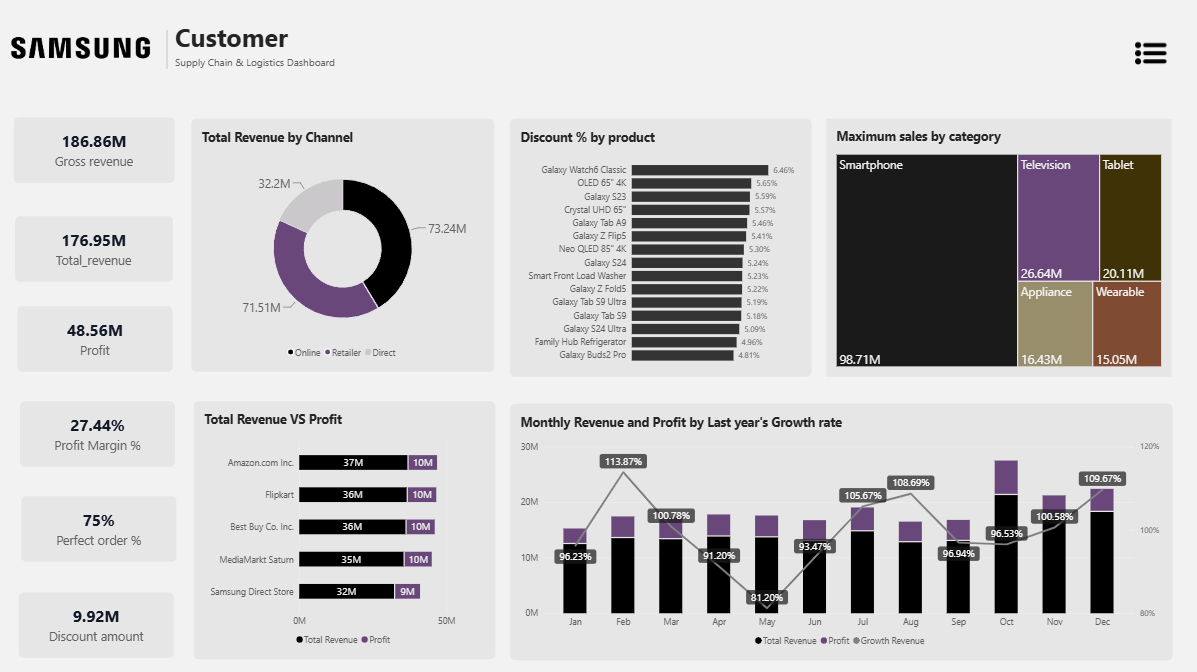

Layout of this report page (visuals, bound fields, positions):
{"tool":"powerbi","page":{"name":"Customer","canvas":[1920,1080],"ordinal":5},"visuals":[{"type":"image","box":[0,15,247.5,120],"z":0},{"type":"shape","title":"Customer","box":[280,32.5,397.5,102.5],"z":1000},{"type":"shape","box":[55,47.5,422.5,62.5],"z":2000},{"type":"barChart","title":"Total Revenue VS Profit","fields":{"Category":["dim_customer.customer_name"],"Y":["Measures_table.Total_revenue","Measures_table.Profit"]},"box":[310,642,482.5,412.5],"z":3000},{"type":"group","id":"g1","title":"Group 2","box":[21.2,188.8,260,863.8],"z":4000},{"type":"donutChart","title":"Total Revenue by Channel","fields":{"Y":["Measures_table.Total_revenue"],"Category":["dim_customer.channel_type"]},"box":[306,190,485,405],"z":5000},{"type":"lineStackedColumnComboChart","title":"Monthly Revenue and Profit by Last year''s Growth rate","fields":{"Category":["dim_date.Month_short"],"Y":["Measures_table.Total_revenue","Sum(fact_sales.profit)"],"Y2":["Measures_table.Growth_revenue"]},"box":[815,645,1060,410],"z":6000},{"type":"clusteredBarChart","title":"Discount % by product","fields":{"Category":["dim_product.product_name"],"Y":["Measures_table.Discount %"]},"box":[816,190,482.5,412.5],"z":8000},{"type":"treemap","title":"Maximum sales by category","fields":{"Values":["Measures_table.Total_revenue"],"Group":["dim_product.category"]},"box":[1322.5,190,552.5,412.5],"z":9000},{"type":"image","box":[1808,60,66,50],"z":9002},{"type":"cardVisual","fields":{"Data":["Measures_table.Total_revenue"]},"box":[22.4,347.6,252.5,105],"z":19000,"group":"g1"},{"type":"cardVisual","fields":{"Data":["Sum(fact_sales.discount_amount)"]},"box":[27.6,947.4,248.2,105.1],"z":20000,"group":"g2"},{"type":"cardVisual","fields":{"Data":["Measures_table.Perfect_order_%"]},"box":[33,793.3,248.2,105.1],"z":21000,"group":"g2"},{"type":"cardVisual","fields":{"Data":["Measures_table.Profit_margin %"]},"box":[29.6,641.6,248.2,105.1],"z":22000,"group":"g2"},{"type":"cardVisual","fields":{"Data":["Measures_table.Profit"]},"box":[26.2,490,248.2,105.1],"z":23000,"group":"g2"},{"type":"cardVisual","fields":{"Data":["Sum(fact_sales.gross_revenue)"]},"box":[21.2,188.8,257.5,105],"z":24000,"group":"g1"},{"type":"group","id":"g2","title":"Group 1","box":[26.2,490,255,562.5],"z":38001,"group":"g1"}]}

Visuals, with their boxes in screenshot pixels (x1, y1, x2, y2), scaled from the page's 1920x1080 canvas onto the 1197x672 screenshot:
image: 0:9:154:84
"Customer" shape: 175:20:422:84
shape: 34:30:298:68
"Total Revenue VS Profit" barChart: 193:399:494:656
"Group 2" group: 13:117:175:655
"Total Revenue by Channel" donutChart: 191:118:493:370
"Monthly Revenue and Profit by Last year''s Growth rate" lineStackedColumnComboChart: 508:401:1169:656
"Discount % by product" clusteredBarChart: 509:118:810:375
"Maximum sales by category" treemap: 824:118:1169:375
image: 1127:37:1168:68
cardVisual - Measures_table.Total_revenue: 14:216:171:282
cardVisual - Sum(fact_sales.discount_amount): 17:589:172:655
cardVisual - Measures_table.Perfect_order_%: 21:494:175:559
cardVisual - Measures_table.Profit_margin %: 18:399:173:465
cardVisual - Measures_table.Profit: 16:305:171:370
cardVisual - Sum(fact_sales.gross_revenue): 13:117:174:183
"Group 1" group: 16:305:175:655
